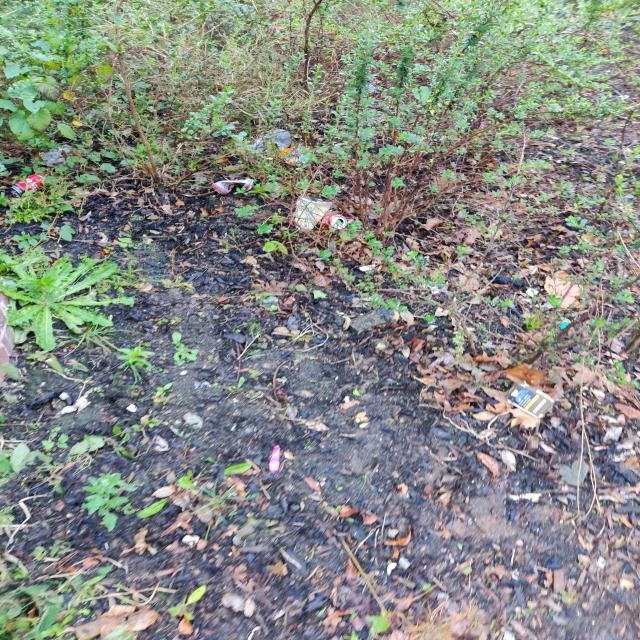litter: (500, 378, 559, 421), (295, 193, 335, 233), (9, 173, 55, 200), (208, 177, 255, 196), (276, 145, 309, 167), (319, 215, 348, 230), (269, 444, 282, 474)
